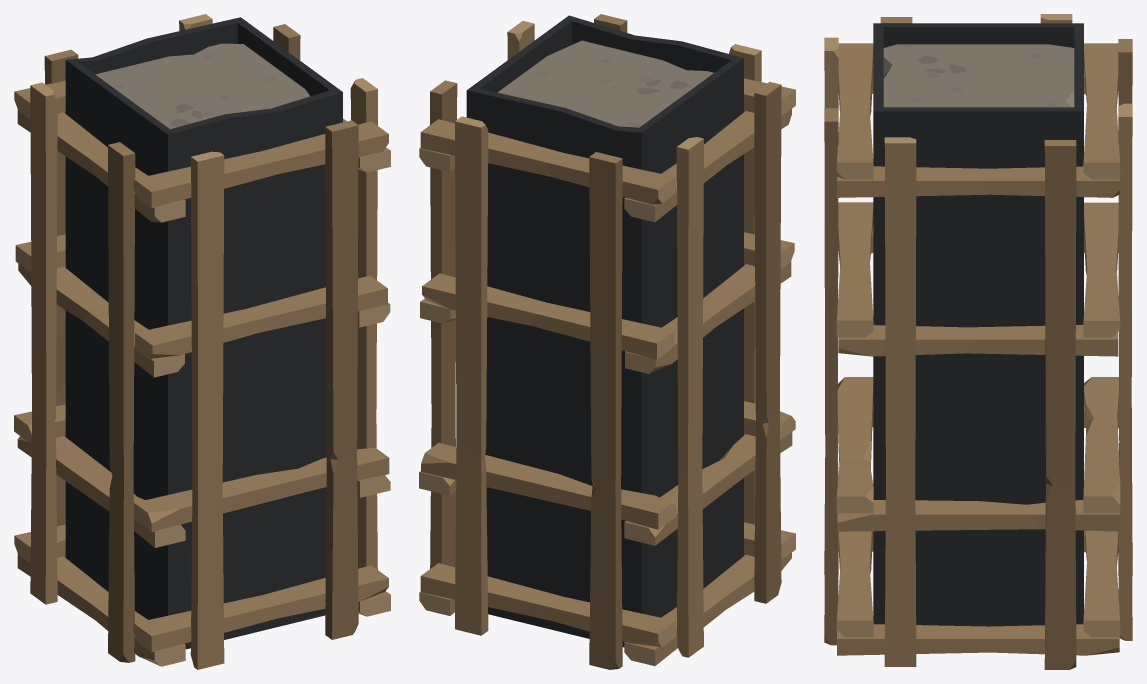
File: SM_Bld_ConcreteFrame_Pillar_03.fbx
3 views of the same model, side by side, from view 1: azimuth 30°, elevation 25°; view 2: azimuth 150°, elevation 25°; view 3: azimuth 270°, elevation 25° (orthographic). The views are drawn at different scales.
Parts seen in each view (by area): view 1: SM_Bld_ConcreteFrame_Pillar_03; view 2: SM_Bld_ConcreteFrame_Pillar_03; view 3: SM_Bld_ConcreteFrame_Pillar_03.
Part boxes in pixels (box(x1,y1,x2,y2)): SM_Bld_ConcreteFrame_Pillar_03: box(14, 14, 390, 669); SM_Bld_ConcreteFrame_Pillar_03: box(419, 14, 795, 669); SM_Bld_ConcreteFrame_Pillar_03: box(824, 14, 1132, 669).
Size of the model in its own units: 161 by 313 by 162.
